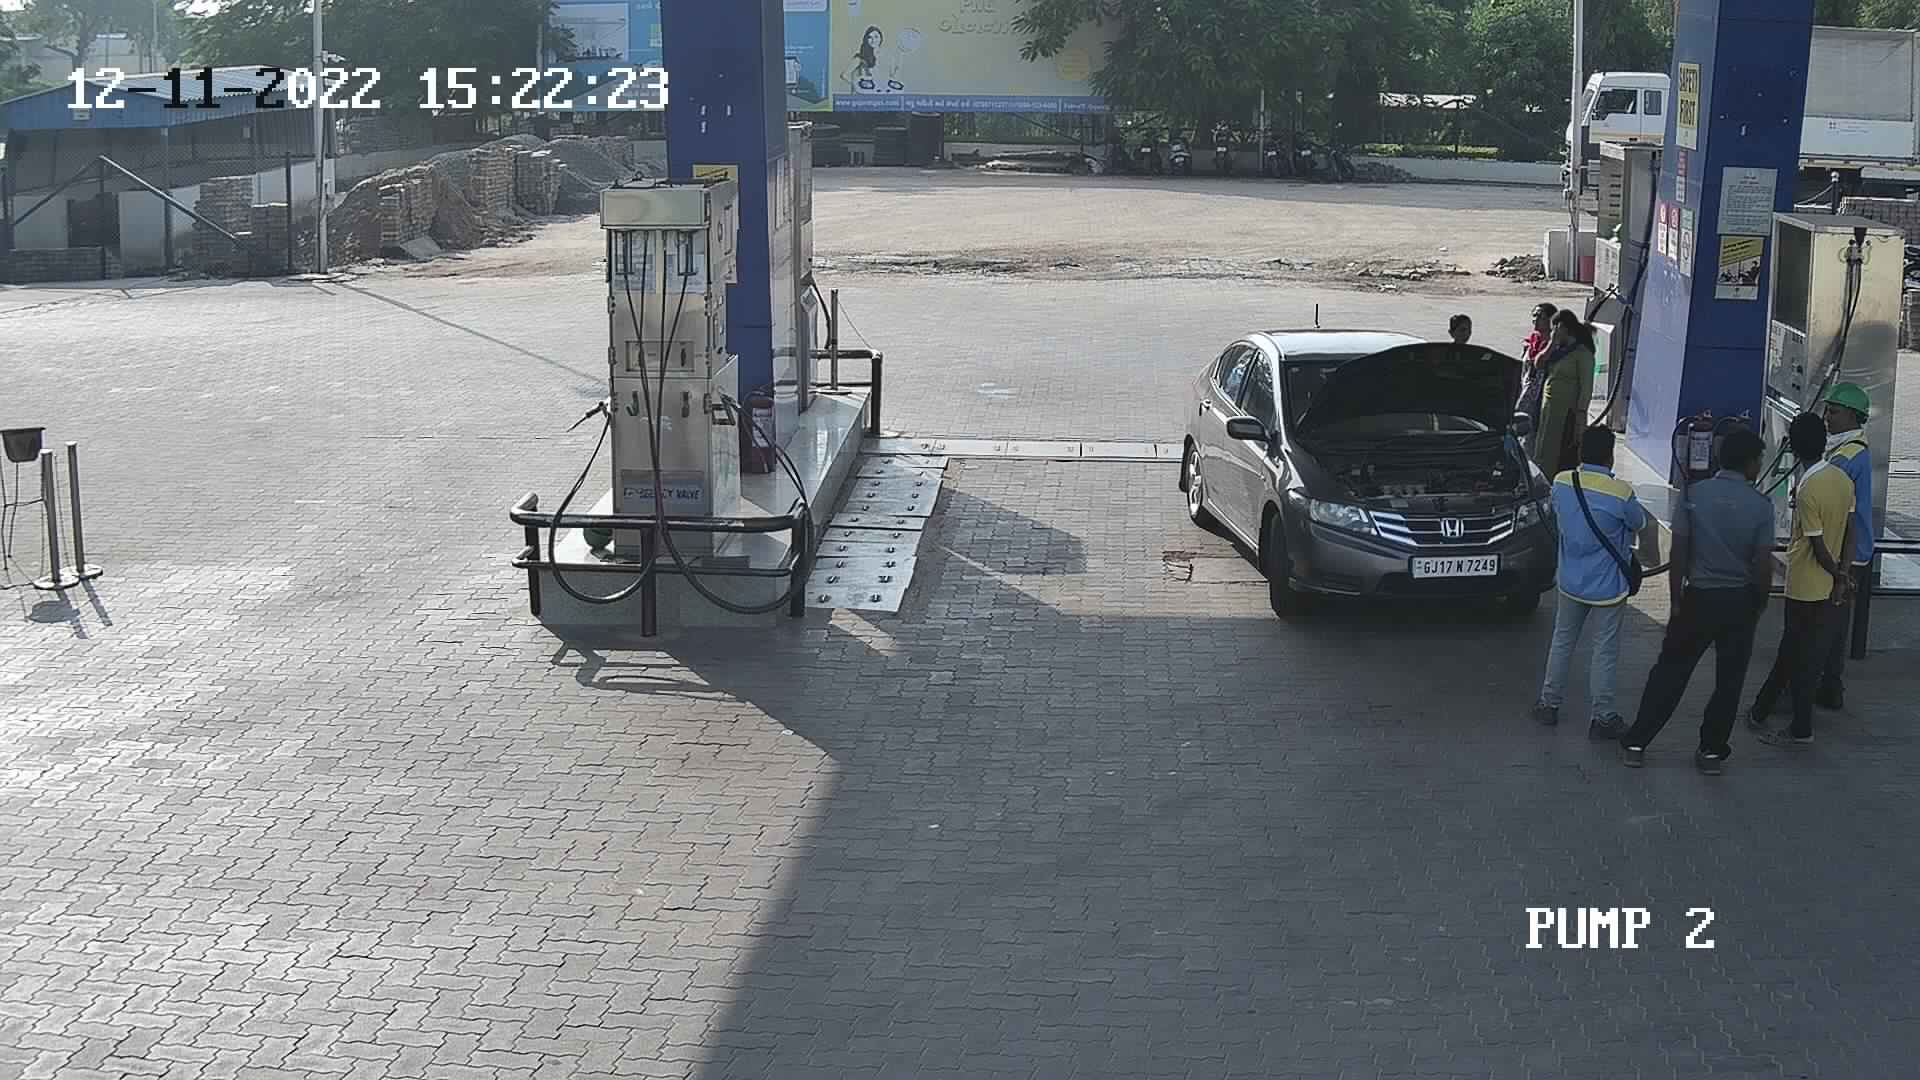Bike: (1300, 104, 1366, 182), (1121, 86, 1168, 182), (1197, 104, 1257, 177), (1155, 105, 1204, 185), (1284, 102, 1323, 193), (1245, 109, 1294, 177)
Car: (1184, 307, 1577, 624)
HMV: (1545, 51, 1683, 220)
Others: (1527, 419, 1656, 746), (1803, 368, 1887, 716)
